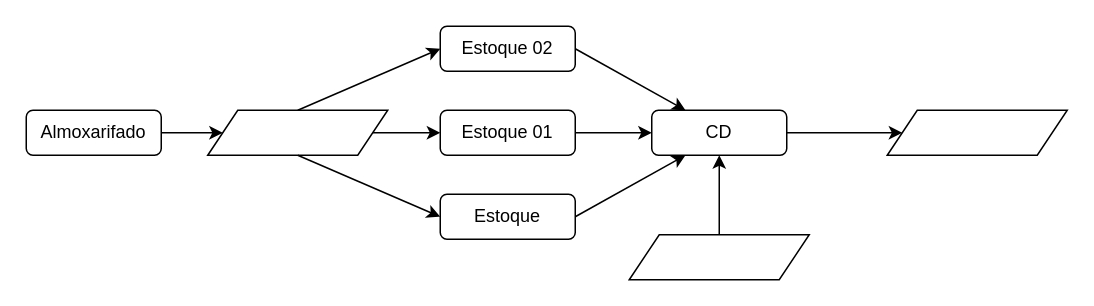
This 1094x306 diagram has some shape labels left out. Each missing label, with the centre of its shape:
Cliente: the point at 976,132
Comercial: the point at 718,256
Produção: the point at 297,132
